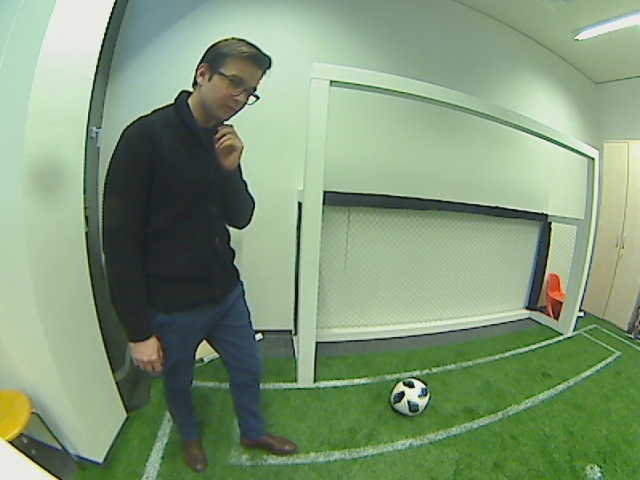ball: (390, 376, 429, 416)
